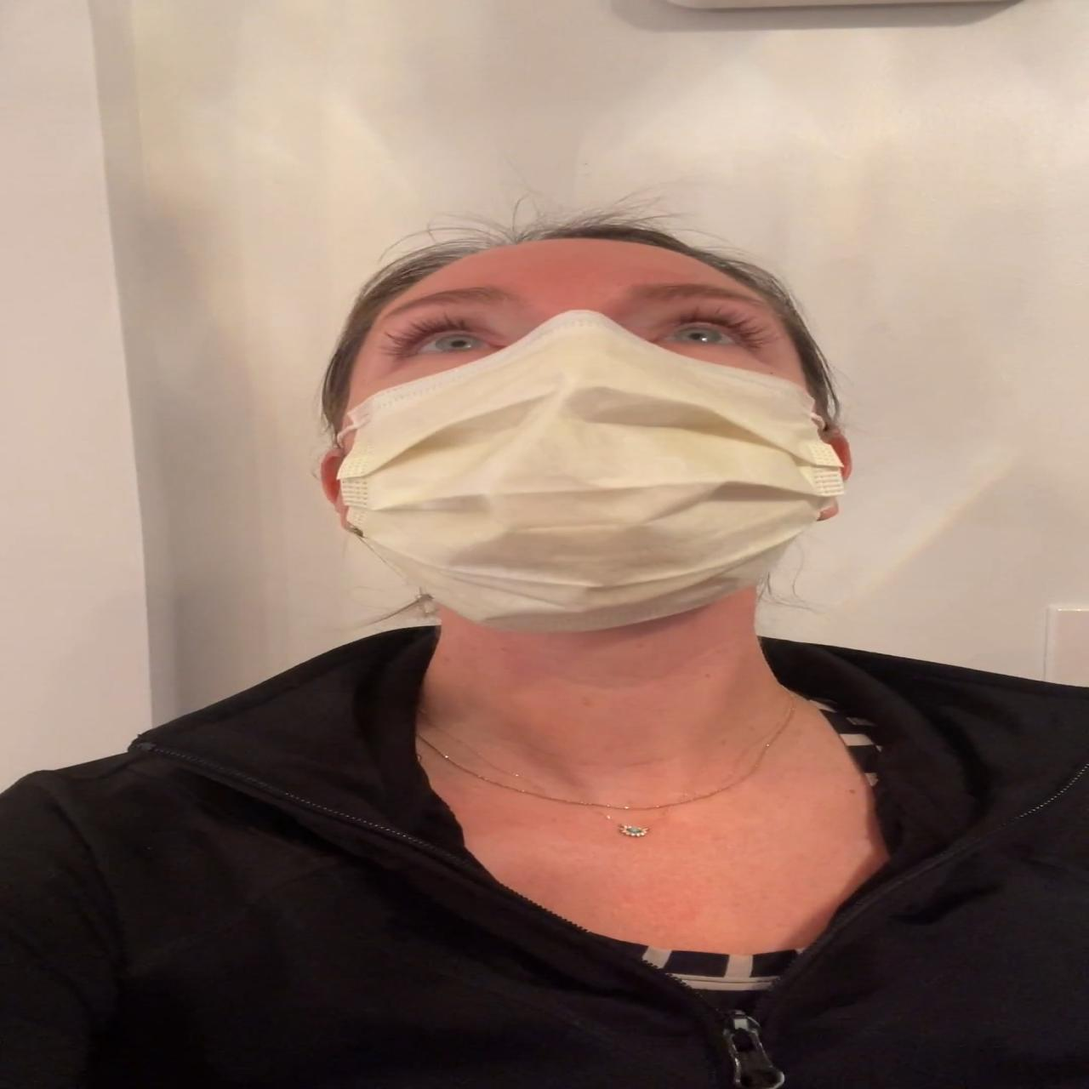NO_Safety_Vest: (47, 653, 1089, 1089)
Person: (0, 192, 1089, 1089)
